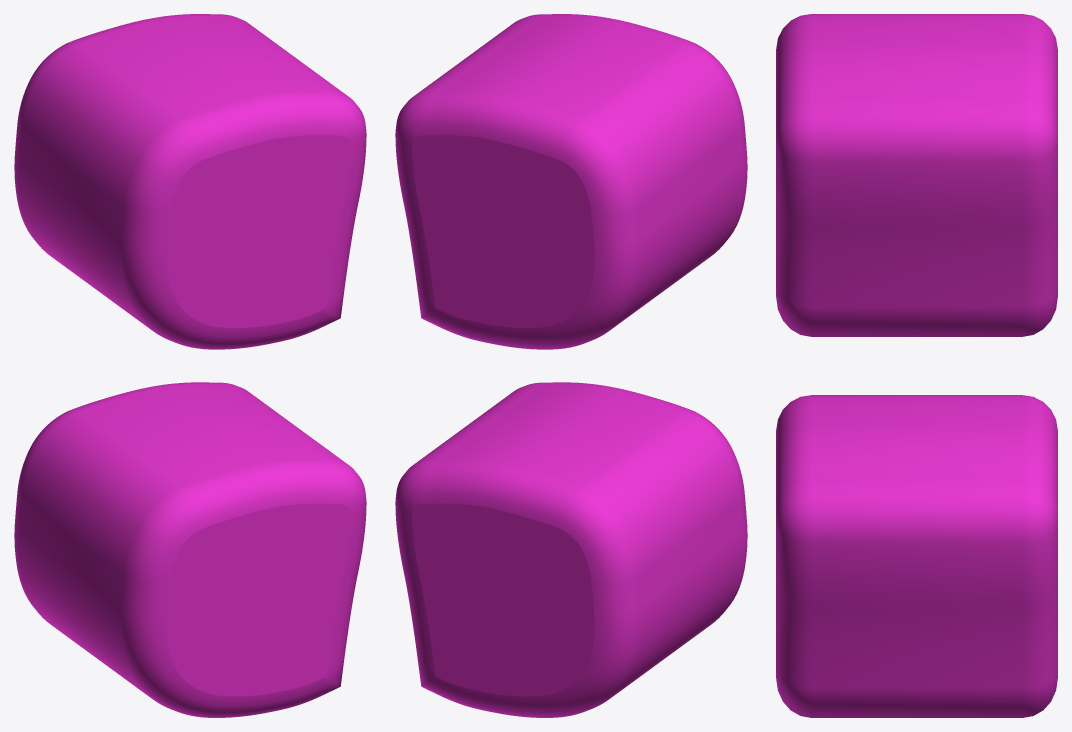
The model's file is colon.glb.
3 views of the same model, side by side, from view 1: azimuth 30°, elevation 25°; view 2: azimuth 150°, elevation 25°; view 3: azimuth 270°, elevation 25° (orthographic). The views are drawn at different scales.
Visible parts, largest first — view 1: Text; view 2: Text; view 3: Text.
Part boxes in pixels (<box>): Text: <box>14,14,366,717</box>; Text: <box>395,14,747,717</box>; Text: <box>776,14,1057,717</box>.
Size of the model in its own units: 0.1637 by 0.3996 by 0.16.
